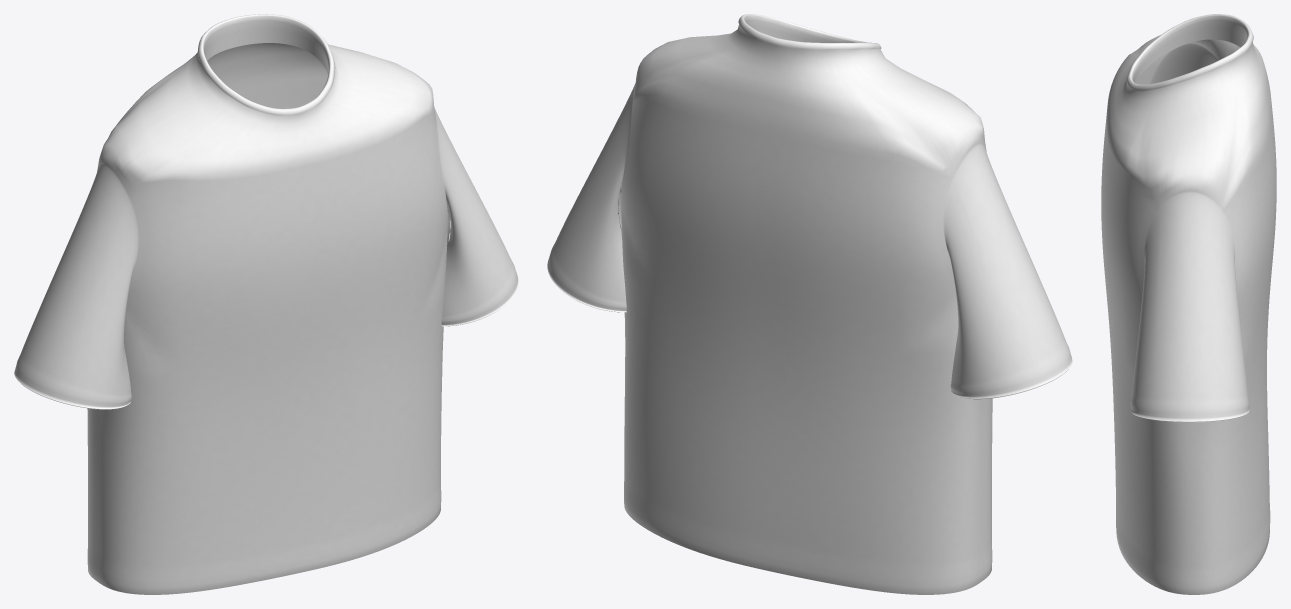
Rendered from oversize_tshirt.glb.
The picture shows the model from 3 angles, left to right: view 1: azimuth 30°, elevation 25°; view 2: azimuth 150°, elevation 25°; view 3: azimuth 270°, elevation 25°; orthographic projection. The views are drawn at different scales.
Visible parts, largest first — view 1: OversizeTShirt; view 2: OversizeTShirt; view 3: OversizeTShirt.
Boxes of the visible parts, <box> form: OversizeTShirt: <box>14,14,518,594</box>; OversizeTShirt: <box>547,14,1072,594</box>; OversizeTShirt: <box>1101,14,1276,594</box>.
Size of the model in its own units: 0.8019 by 0.7936 by 0.2606.
1 material, 1 textured.
